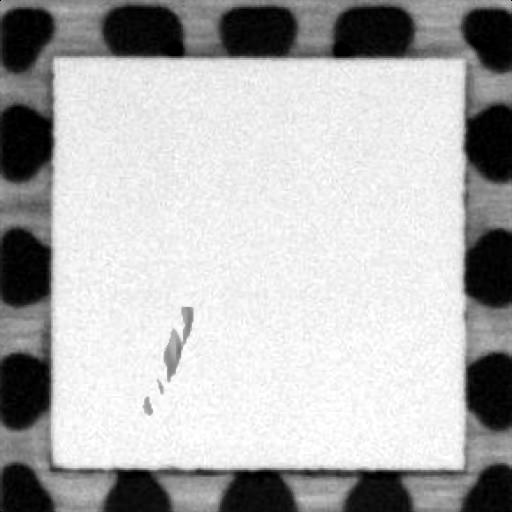DIE_INK: (140, 305, 194, 410)
